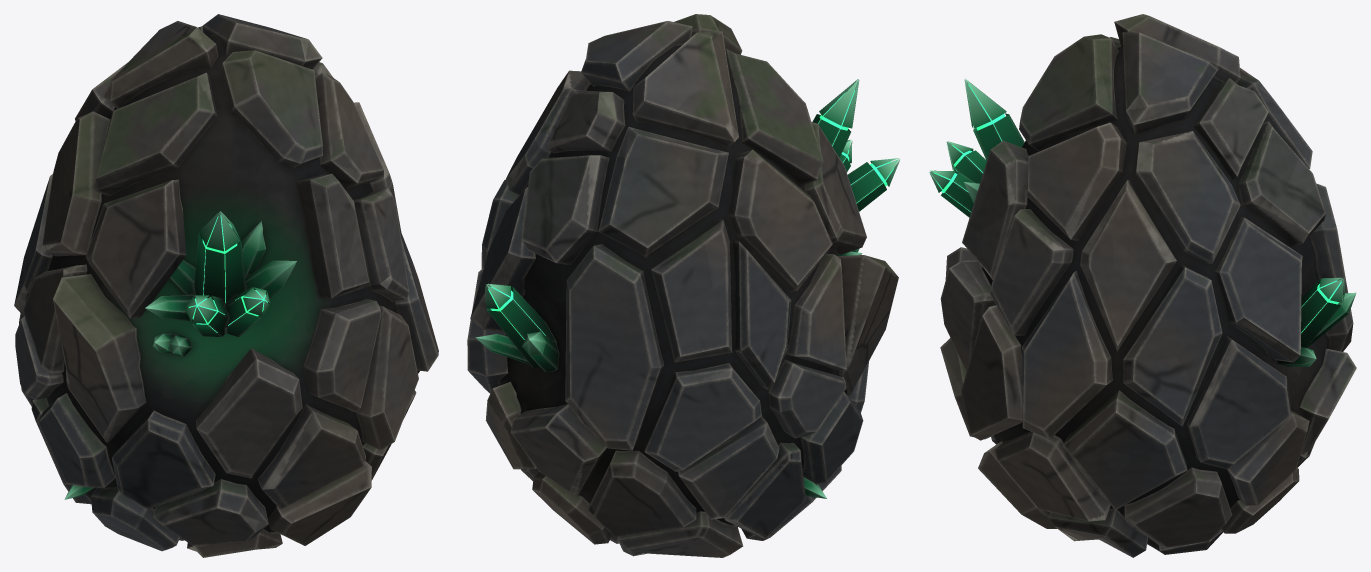
The model's file is crystal_egg.fbx.
3 views of the same model, side by side, from view 1: azimuth 30°, elevation 25°; view 2: azimuth 150°, elevation 25°; view 3: azimuth 270°, elevation 25° (orthographic).
Parts seen in each view (by area): view 1: CrystalEgg_Body, CrystalEgg_GLOW; view 2: CrystalEgg_Body, CrystalEgg_GLOW; view 3: CrystalEgg_Body, CrystalEgg_GLOW.
Boxes of the visible parts, left/top/right/bottom form: CrystalEgg_Body: left=14, top=14, right=438, bottom=557; CrystalEgg_GLOW: left=188, top=215, right=267, bottom=332; CrystalEgg_Body: left=467, top=14, right=899, bottom=557; CrystalEgg_GLOW: left=488, top=90, right=894, bottom=339; CrystalEgg_Body: left=929, top=14, right=1356, bottom=557; CrystalEgg_GLOW: left=933, top=84, right=1341, bottom=333.
Size of the model in its own units: 3.48 by 4.48 by 3.55.
Materials: 2 (1 with a texture image).
